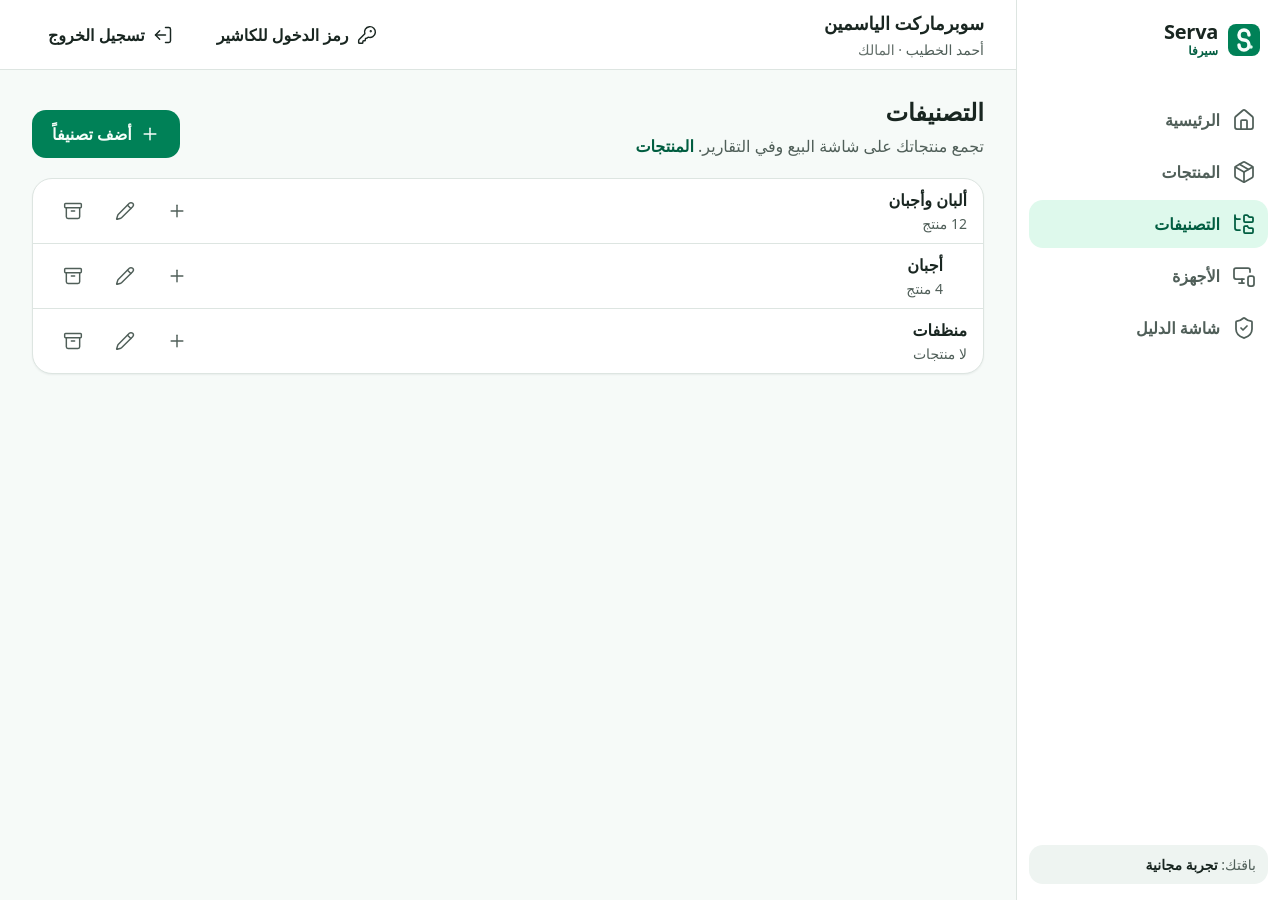
it: /categories › adds a category under a parent
This screenshot has width=1280, height=900.
Step 1. Click the button named "أضف تصنيفاً تحت «ألبان وأجبان»" → coordinates (177, 211), box [153, 187, 201, 235]
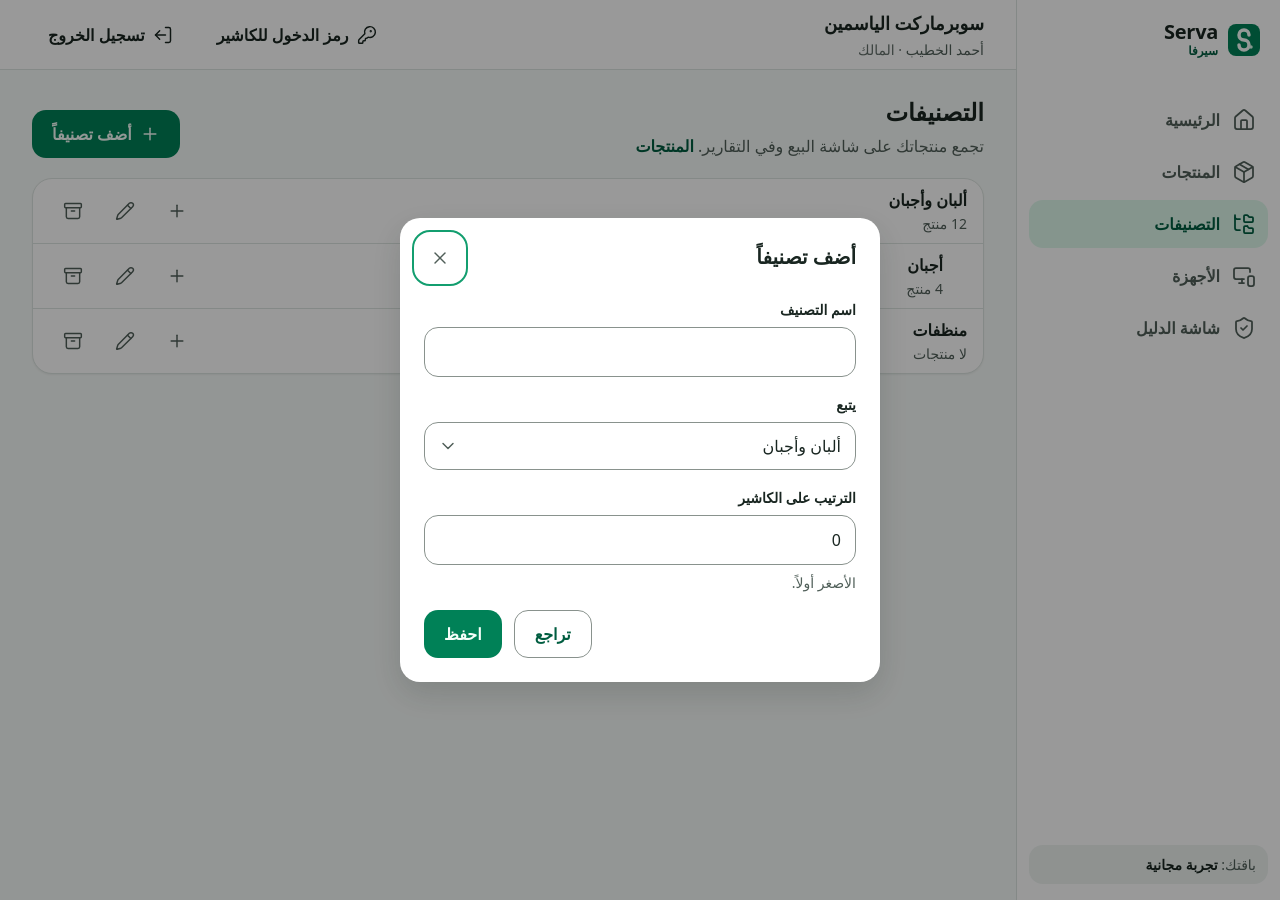
expect the dropdown labelled "يتبع" shows "ألبان وأجبان": met, box [424, 422, 856, 470]
Step 2. Click the button "احفظ" → coordinates (463, 634), box [424, 610, 502, 658]
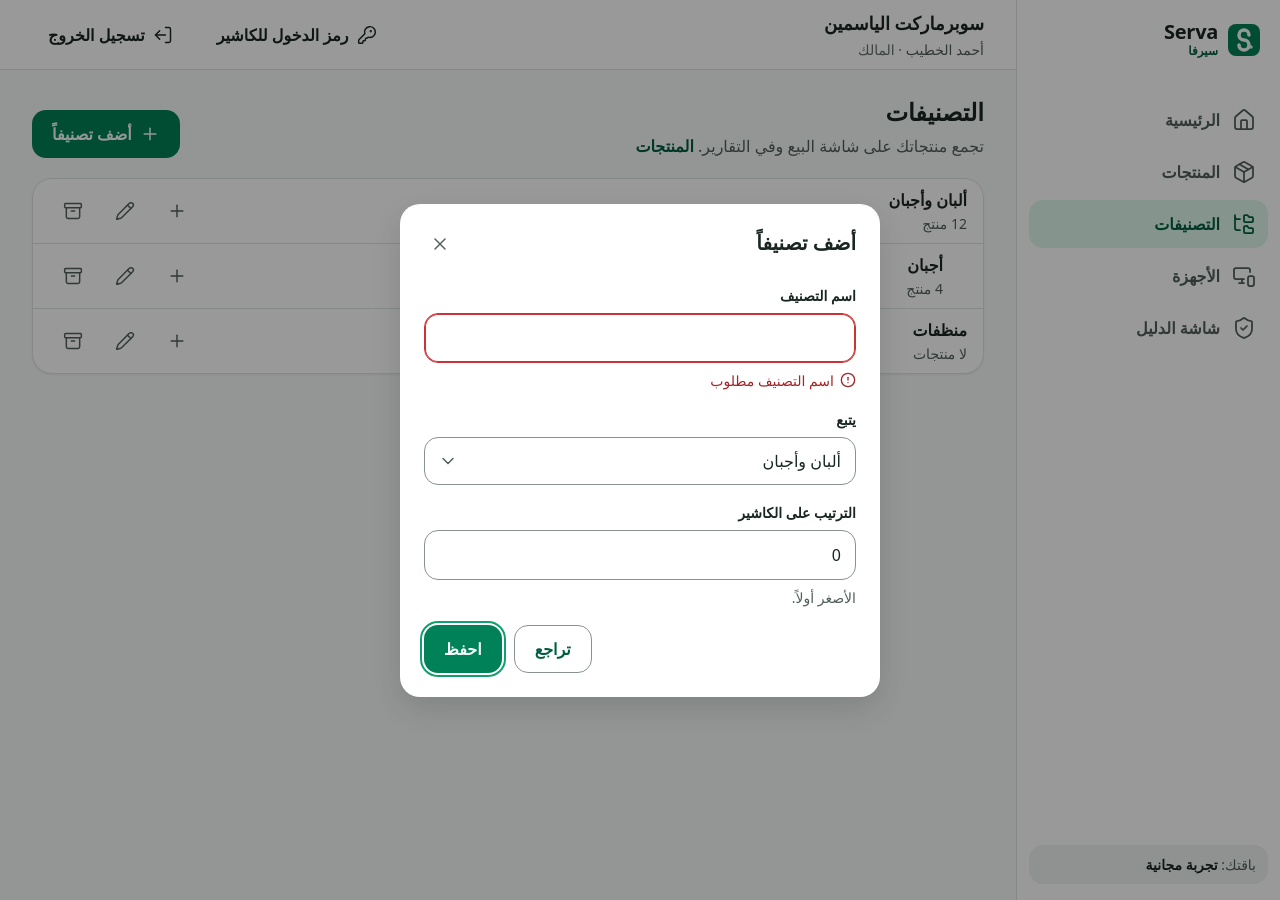
expect the text "اسم التصنيف مطلوب" is shown: met, box [710, 368, 834, 392]
Step 3. Type "ألبان مجففة" into the field labelled "اسم التصنيف" → coordinates (640, 338), box [425, 314, 855, 362]
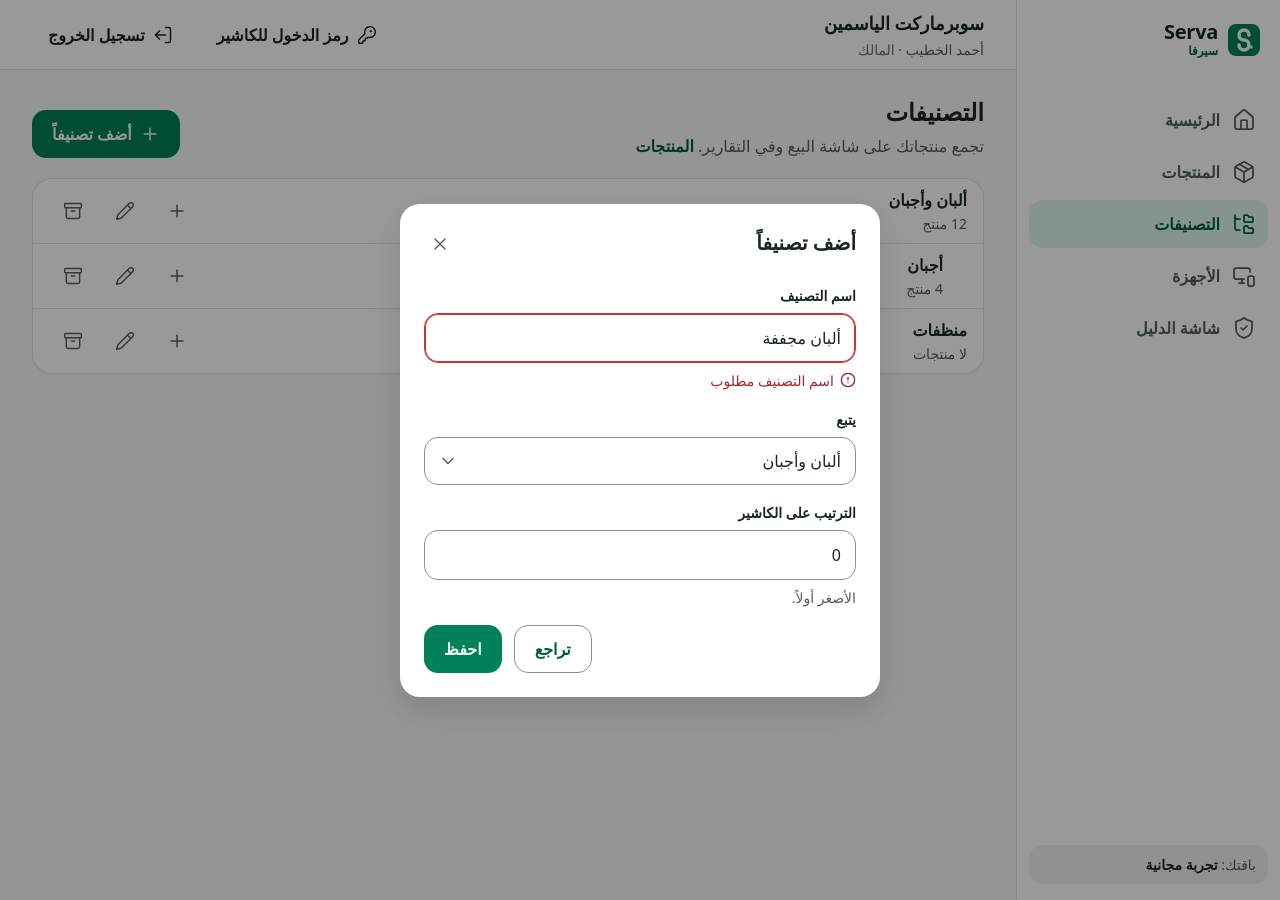
Step 4. Click the button "احفظ" → coordinates (463, 648), box [424, 624, 502, 672]
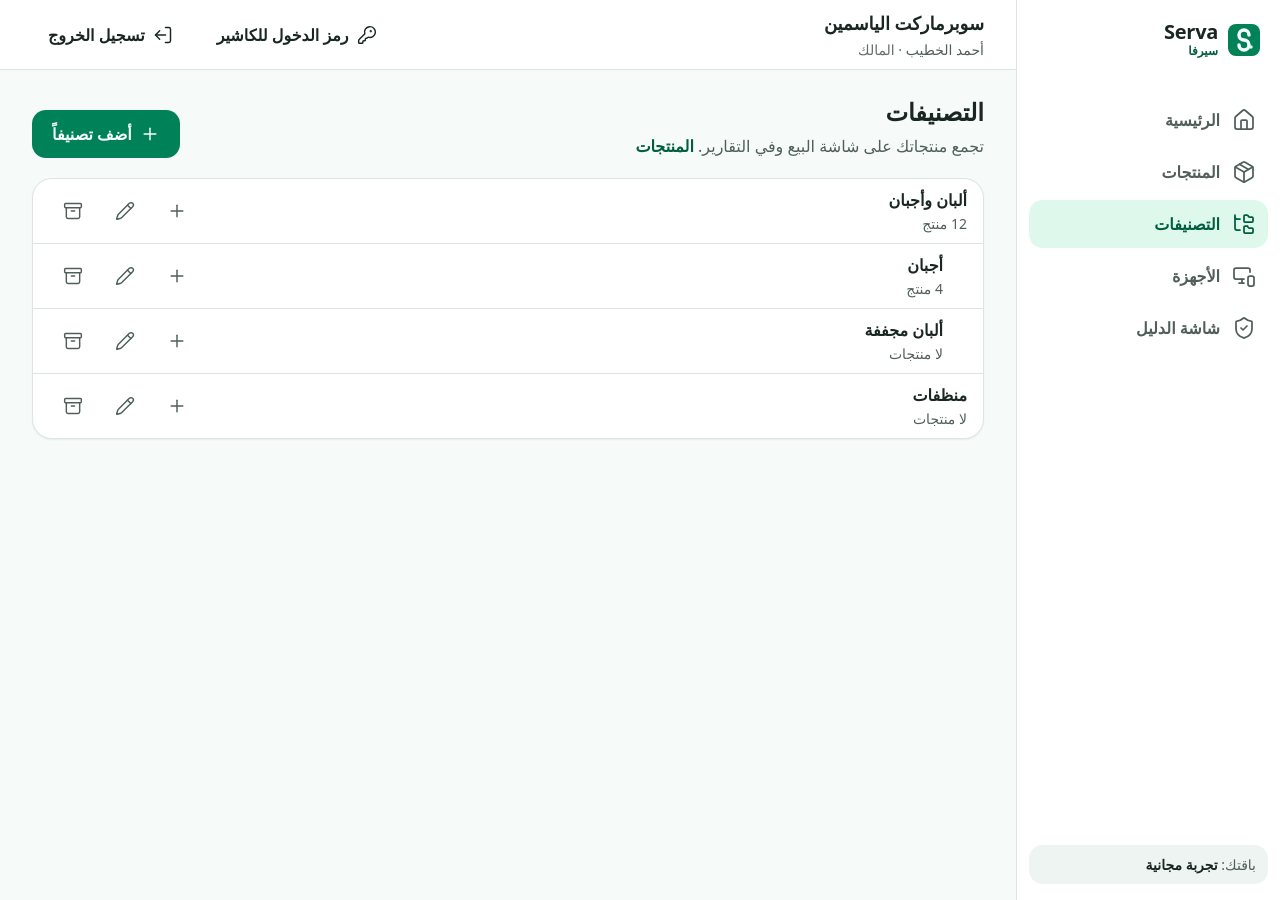
expect the dialog is gone: met
